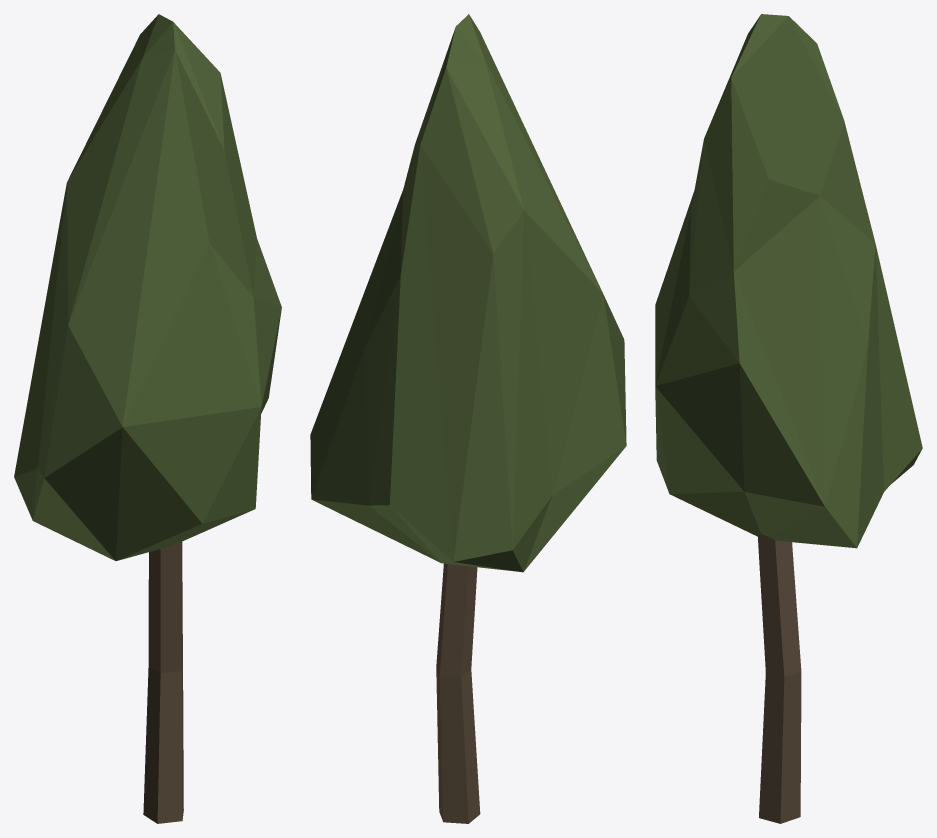
The model's file is tree_025.fbx.
3 views of the same model, side by side, from view 1: azimuth 30°, elevation 25°; view 2: azimuth 150°, elevation 25°; view 3: azimuth 270°, elevation 25° (orthographic).
Visible parts, largest first — view 1: tree_025; view 2: tree_025; view 3: tree_025.
Boxes of the visible parts, box(x1,y1,x2,y2) form: tree_025: box(14, 14, 281, 823); tree_025: box(310, 14, 626, 823); tree_025: box(655, 14, 922, 823).
Size of the model in its own units: 0.4662 by 1.31 by 0.3983.
1 material, 1 textured.
